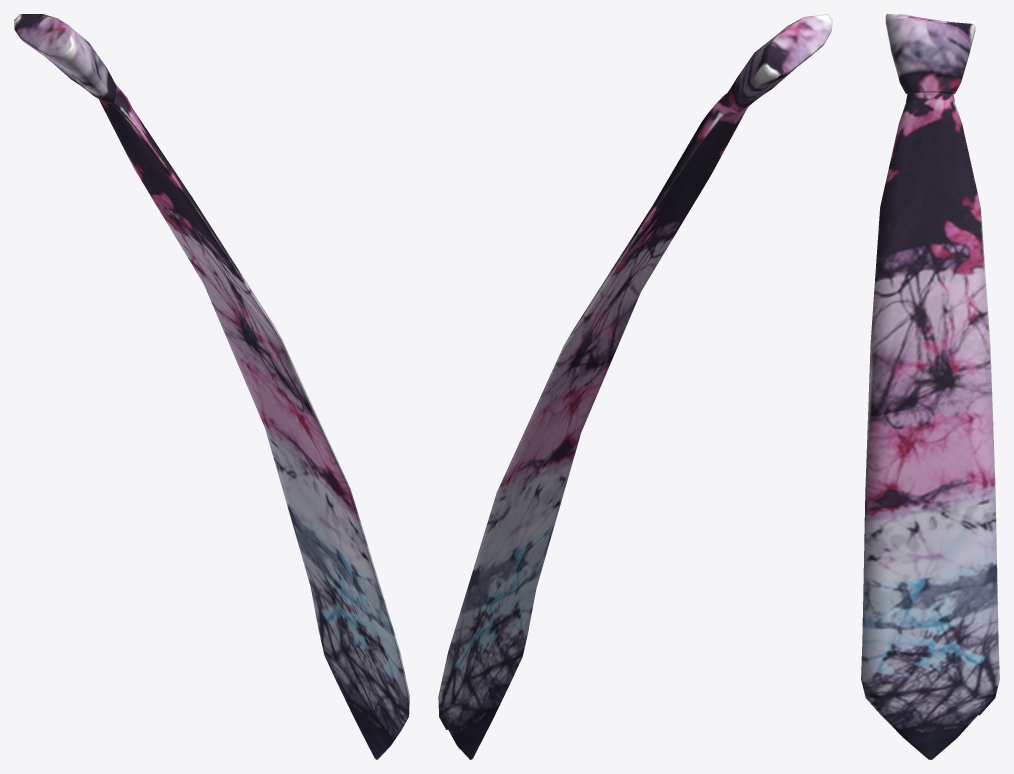
The model's file is NECK TIE BATIK.fbx.
3 views of the same model, side by side, from view 1: azimuth 30°, elevation 25°; view 2: azimuth 150°, elevation 25°; view 3: azimuth 270°, elevation 25° (orthographic). The views are drawn at different scales.
Visible parts, largest first — view 1: 3.005; view 2: 3.005; view 3: 3.005.
Part boxes in pixels (x1,y1,x2,y2): 3.005: (14,14,409,759); 3.005: (438,14,832,759); 3.005: (861,14,999,759).
Size of the model in its own units: 14.32 by 32.41 by 6.53.
Materials: 1 (1 with a texture image).
